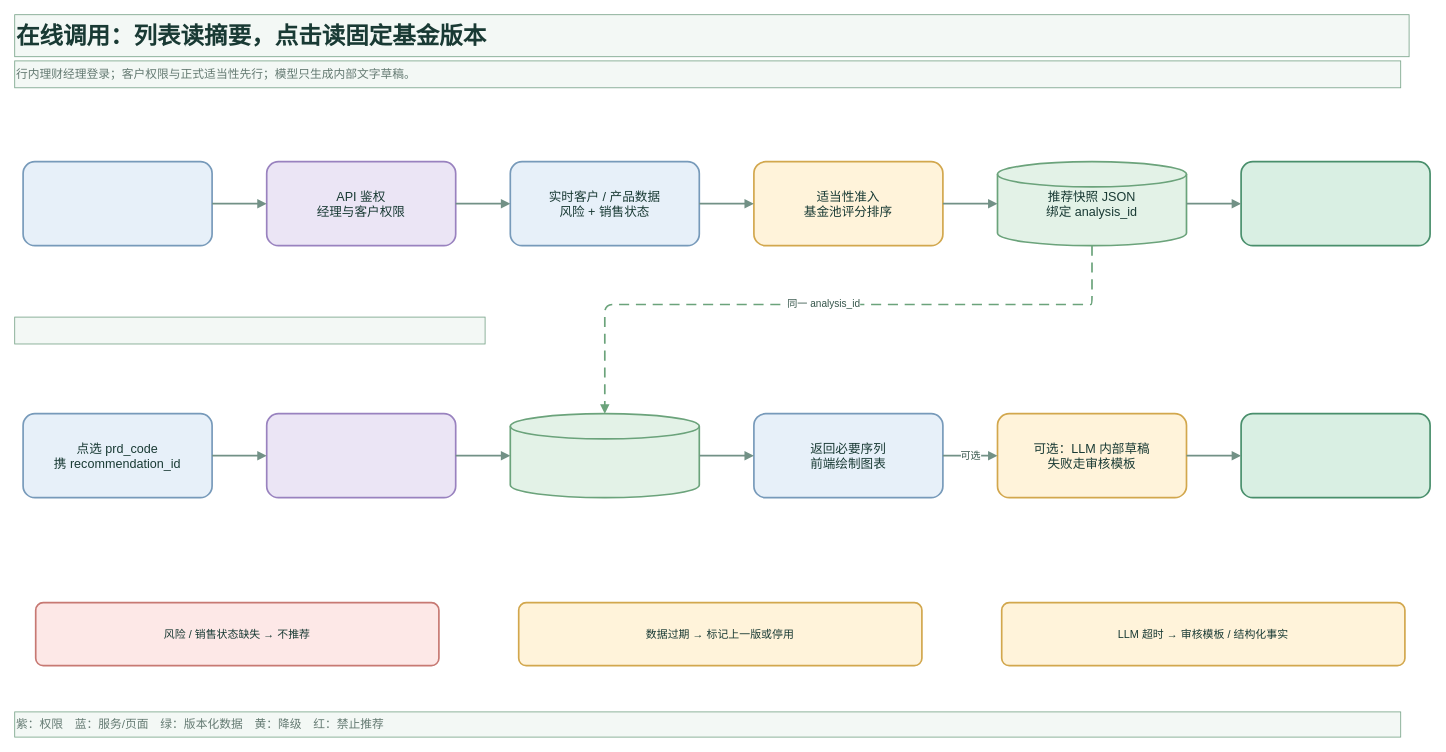
This 1446x752 diagram has some shape labels left out. Each missing label, with the centre of its shape:
前端列表 客户画像 + 排名: [1335,203]
报告 JSON + 页面 不自动对客发送: [1335,455]
点击基金后：不重新跑回测，不拉四份完整 JSON。: [249,330]
理财经理前端 选择 cust_id: [117,203]
详情 API 校验授权与版本: [360,455]
读取固定 analysis_id 版本库 / 图表摘要: [604,455]
